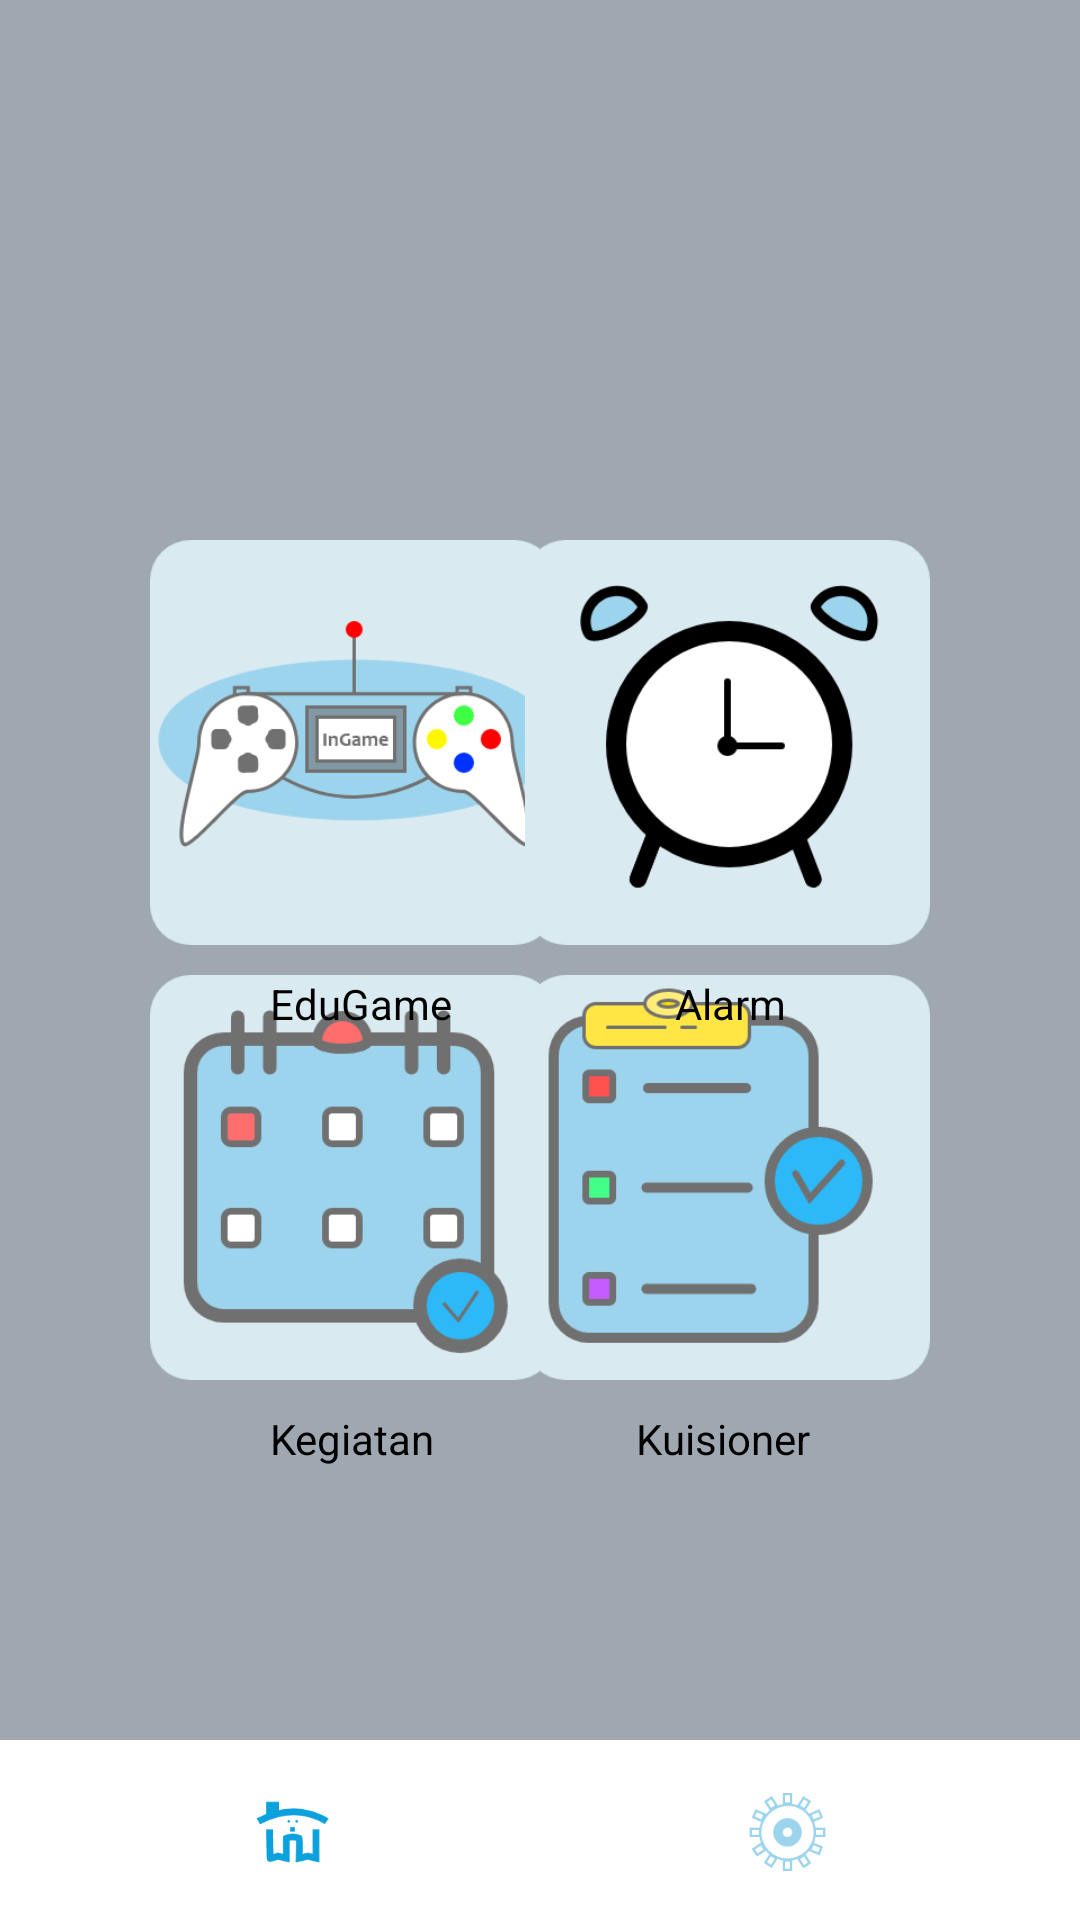

Icons on this 1080 × 1920 Android screen, each with its box as Rect(x1, y1, x2, y2):
home: Rect(256, 1801, 329, 1863)
settings: Rect(749, 1793, 826, 1871)
